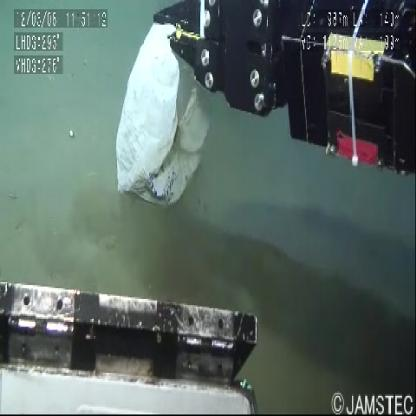Rov: (148, 4, 416, 178), (1, 266, 260, 416)
Rác: (113, 12, 210, 216)
